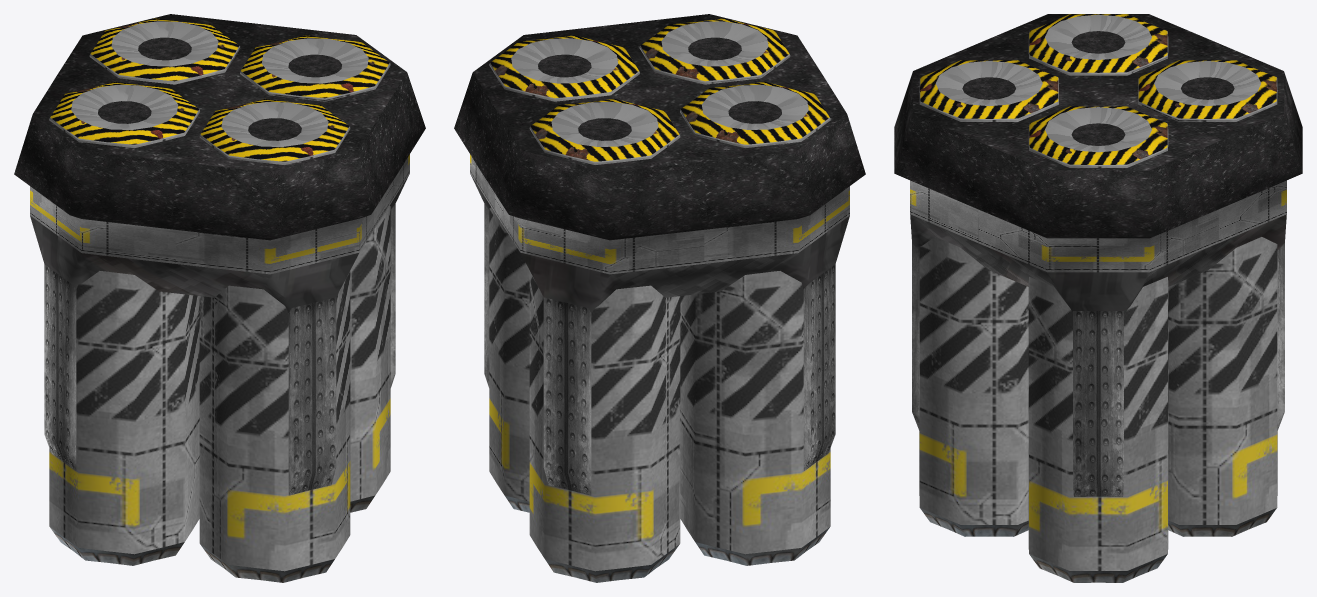
The model's file is launcherSmall.obj.
3 renders of one model, left to right at view 1: azimuth 30°, elevation 25°; view 2: azimuth 150°, elevation 25°; view 3: azimuth 270°, elevation 25°, orthographic.
Visible parts, largest first — view 1: mountS.002_Cylinder.011; view 2: mountS.002_Cylinder.011; view 3: mountS.002_Cylinder.011.
Boxes of the visible parts, <box> form: mountS.002_Cylinder.011: <box>14,14,425,582</box>; mountS.002_Cylinder.011: <box>454,14,865,582</box>; mountS.002_Cylinder.011: <box>894,14,1302,582</box>.
Size of the model in its own units: 0.6974 by 0.8305 by 0.6974.
Materials: 1 (1 with a texture image).
